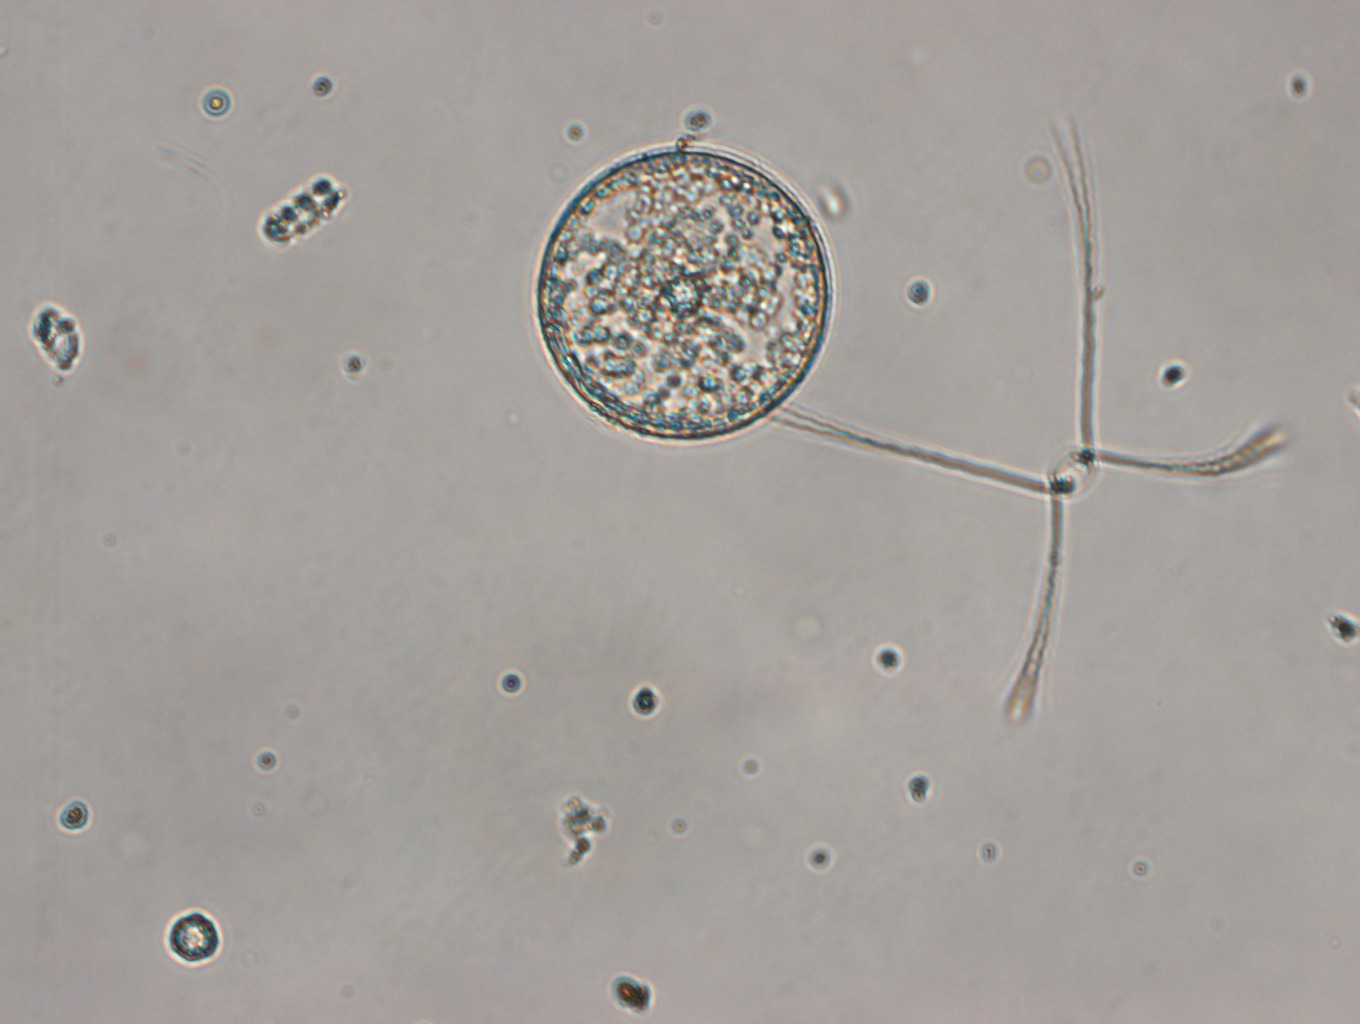chaetoceros: (779, 132, 1280, 746)
coscinodiscus: (527, 148, 844, 443)
